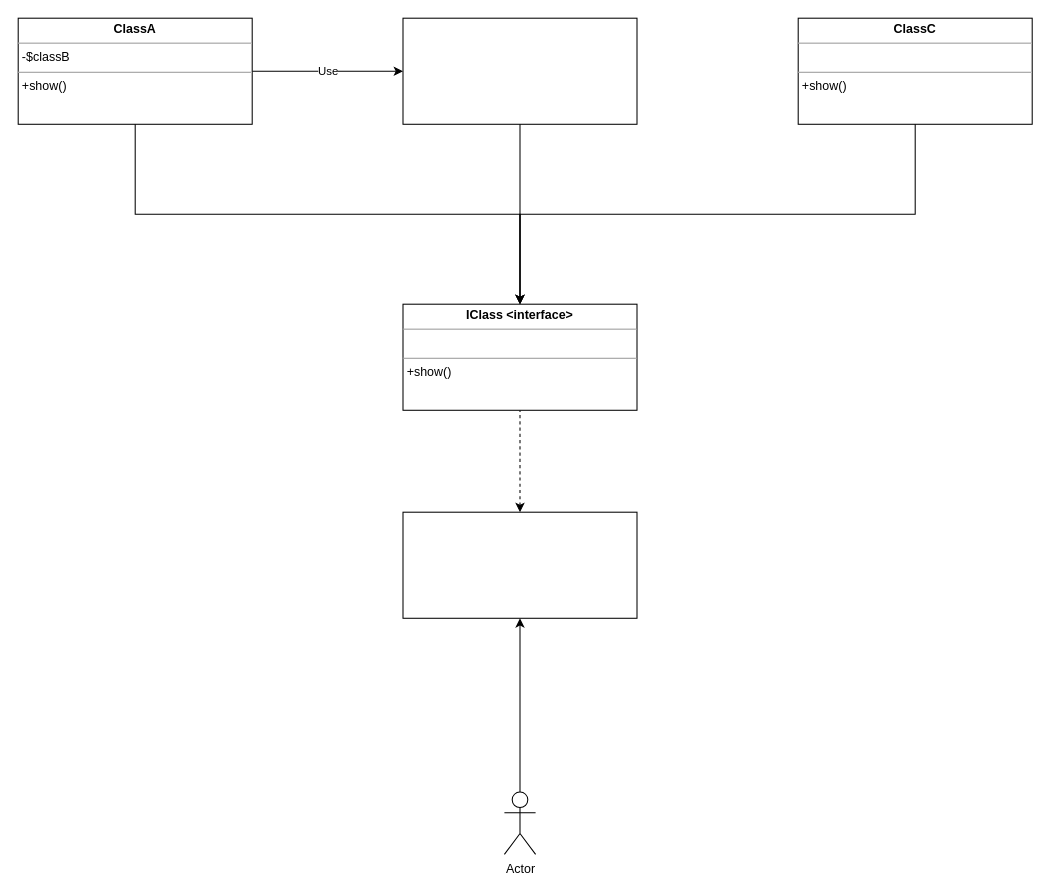
Image size: 1050x894. Some labels were removed from this diagram. Each missing label, with the centre of its shape:
"ClassB -$classC +show()" belongs at pixel 519 70.
"Container -$bindings +bind() +make()" belongs at pixel 519 564.
